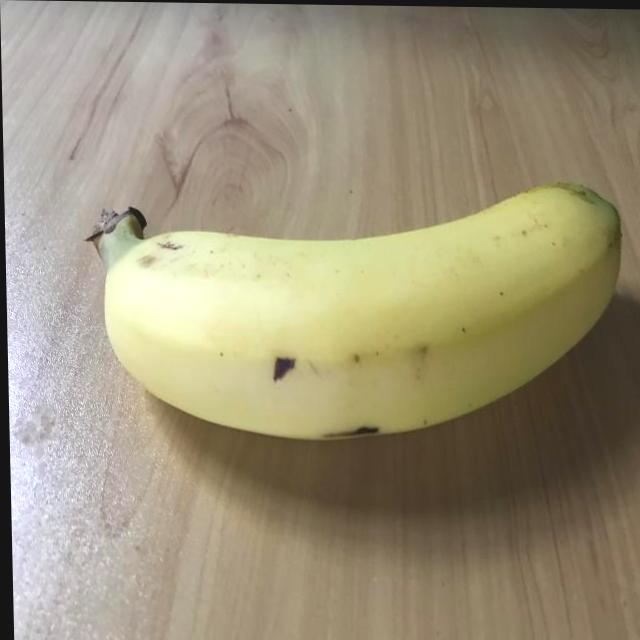banana: (82, 156, 636, 455)
